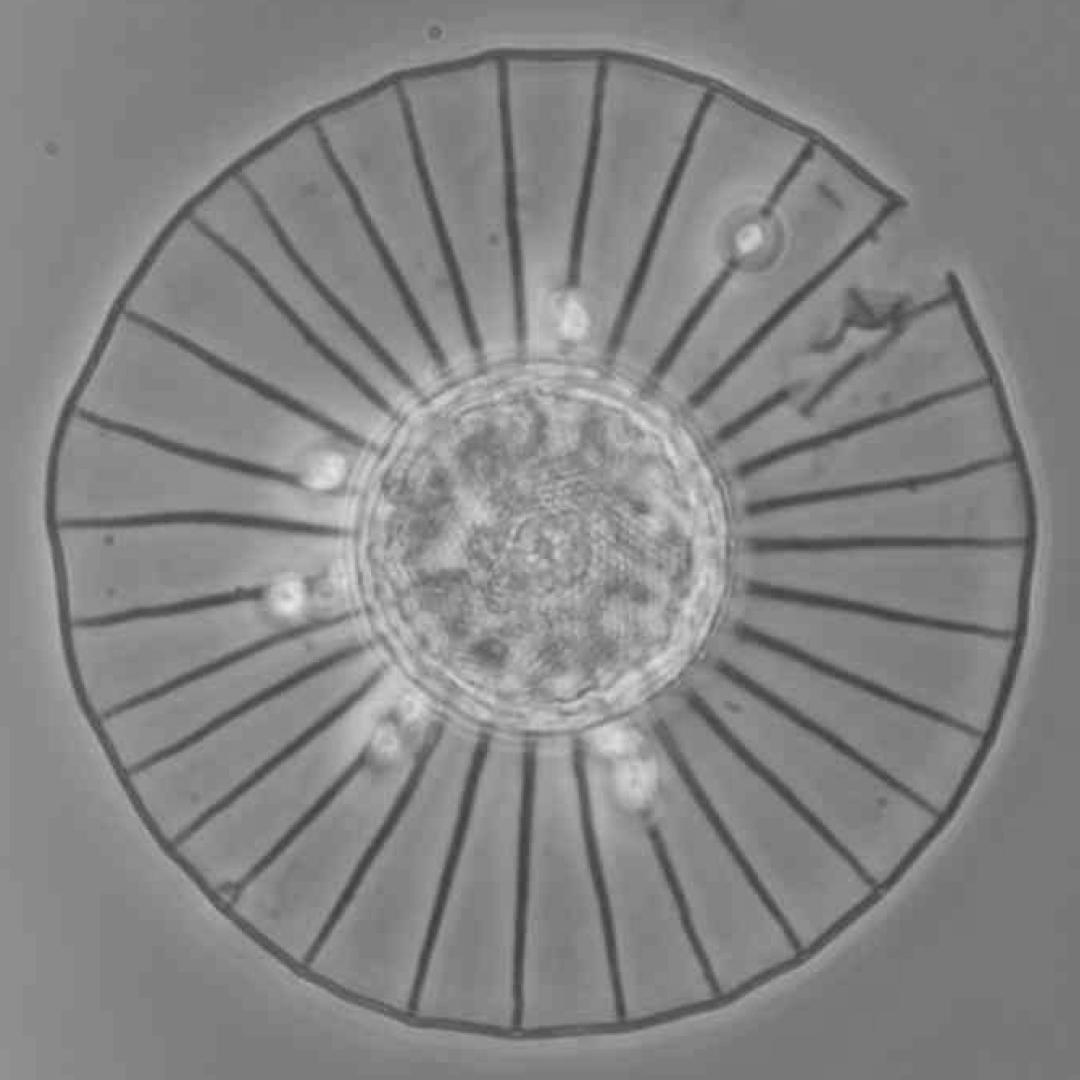planktoniella_sol: (57, 57, 1029, 1031)
